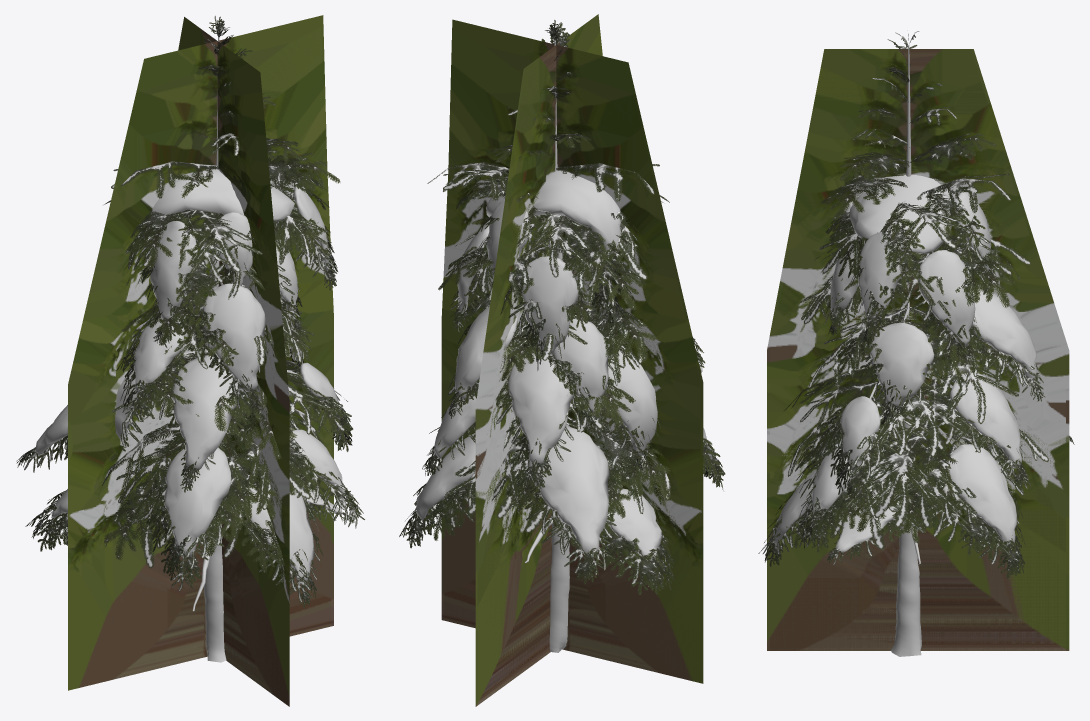
The model's file is Spruce3.fbx.
3 views of the same model, side by side, from view 1: azimuth 30°, elevation 25°; view 2: azimuth 150°, elevation 25°; view 3: azimuth 270°, elevation 25° (orthographic).
Visible parts, largest first — view 1: Billboard, LOD0, Branch_snowdrift_13_LOD0, Branch_snowdrift_11_LOD0, Branch_snowdrift_6_LOD0, Branch_snowdrift_14_LOD0, Branch_snowdrift_1_LOD0, Branch_snowdrift_8_LOD0, Branch_snowdrift_7_LOD0, Branch_snowdrift_5_LOD0; view 2: Billboard, LOD0, Branch_snowdrift_10_LOD0, Branch_snowdrift_5_LOD0, Branch_snowdrift_9_LOD0, Branch_snowdrift_14_LOD0, Branch_snowdrift_11_LOD0, Branch_snowdrift_3_LOD0, Branch_snowdrift_4_LOD0, Branch_snowdrift_8_LOD0; view 3: Billboard, LOD0, Branch_snowdrift_8_LOD0, Branch_snowdrift_9_LOD0, Branch_snowdrift_14_LOD0, Branch_snowdrift_4_LOD0, Branch_snowdrift_7_LOD0, Branch_snowdrift_13_LOD0, Branch_snowdrift_2_LOD0, Branch_snowdrift_1_LOD0.
Part boxes in pixels (x1=…): Billboard: x1=68, y1=15, x2=333, y2=706; LOD0: x1=16, y1=15, x2=364, y2=662; Branch_snowdrift_13_LOD0: x1=172, y1=212, x2=298, y2=470; Branch_snowdrift_11_LOD0: x1=114, y1=221, x2=197, y2=440; Branch_snowdrift_6_LOD0: x1=164, y1=447, x2=231, y2=557; Branch_snowdrift_14_LOD0: x1=151, y1=169, x2=294, y2=221; Branch_snowdrift_1_LOD0: x1=243, y1=482, x2=314, y2=581; Branch_snowdrift_8_LOD0: x1=282, y1=186, x2=338, y2=423; Branch_snowdrift_7_LOD0: x1=289, y1=429, x2=345, y2=497; Branch_snowdrift_5_LOD0: x1=35, y1=405, x2=67, y2=456; Billboard: x1=441, y1=14, x2=703, y2=706; LOD0: x1=399, y1=20, x2=725, y2=652; Branch_snowdrift_10_LOD0: x1=508, y1=256, x2=608, y2=465; Branch_snowdrift_5_LOD0: x1=529, y1=426, x2=609, y2=554; Branch_snowdrift_9_LOD0: x1=434, y1=199, x2=529, y2=458; Branch_snowdrift_14_LOD0: x1=486, y1=170, x2=621, y2=256; Branch_snowdrift_11_LOD0: x1=604, y1=348, x2=657, y2=457; Branch_snowdrift_3_LOD0: x1=606, y1=488, x2=661, y2=561; Branch_snowdrift_4_LOD0: x1=416, y1=433, x2=475, y2=521; Branch_snowdrift_8_LOD0: x1=457, y1=220, x2=490, y2=316; Billboard: x1=767, y1=49, x2=1069, y2=650; LOD0: x1=758, y1=31, x2=1074, y2=656; Branch_snowdrift_8_LOD0: x1=840, y1=232, x2=975, y2=471; Branch_snowdrift_9_LOD0: x1=950, y1=191, x2=1037, y2=468; Branch_snowdrift_14_LOD0: x1=849, y1=174, x2=951, y2=254; Branch_snowdrift_4_LOD0: x1=946, y1=444, x2=1017, y2=547; Branch_snowdrift_7_LOD0: x1=812, y1=447, x2=853, y2=518; Branch_snowdrift_13_LOD0: x1=814, y1=201, x2=859, y2=320; Branch_snowdrift_2_LOD0: x1=835, y1=493, x2=901, y2=552; Branch_snowdrift_1_LOD0: x1=773, y1=469, x2=816, y2=545.
Size of what is drawn, in the model's own units: 147 by 332 by 153.
